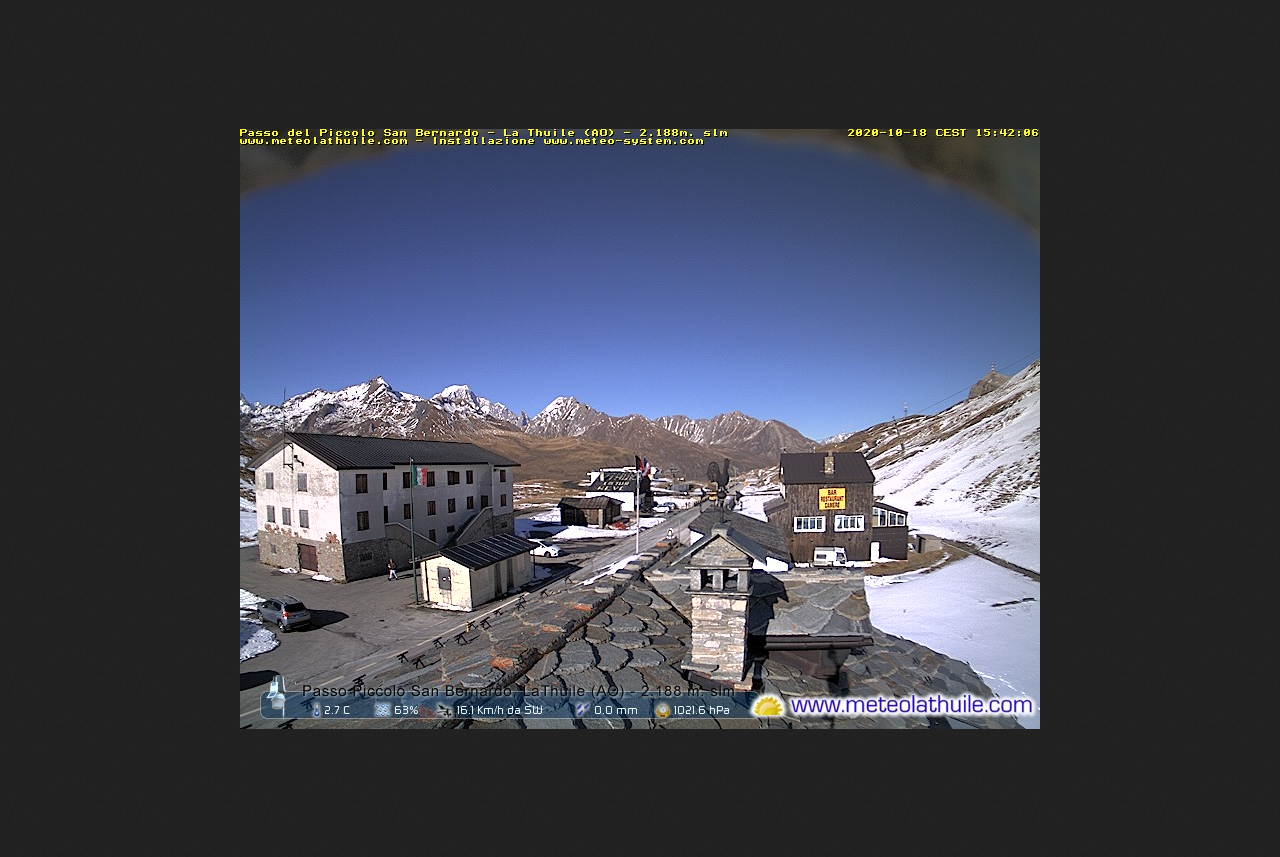yes: (405, 461, 430, 493), (644, 455, 658, 479), (633, 454, 648, 473)
